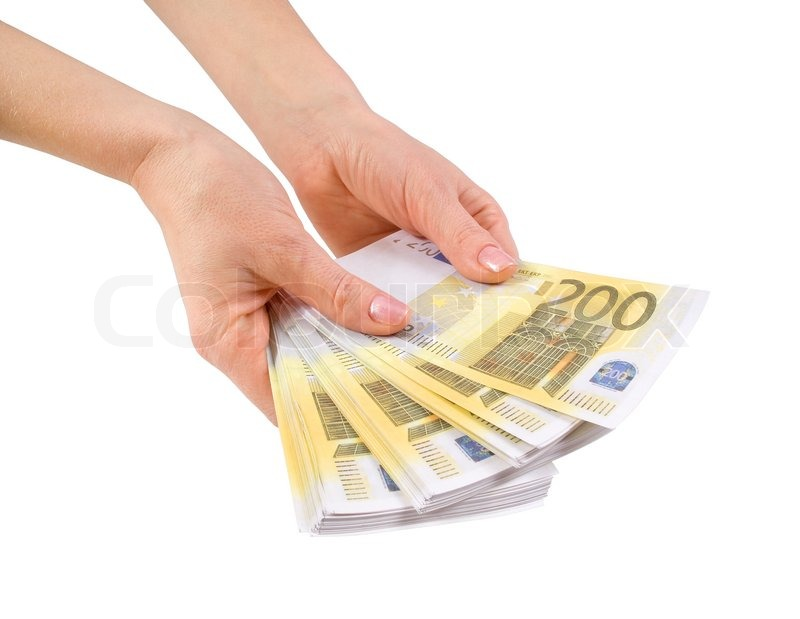billete: (262, 224, 714, 541)
